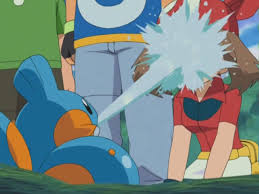mudkip: (8, 55, 101, 173)
